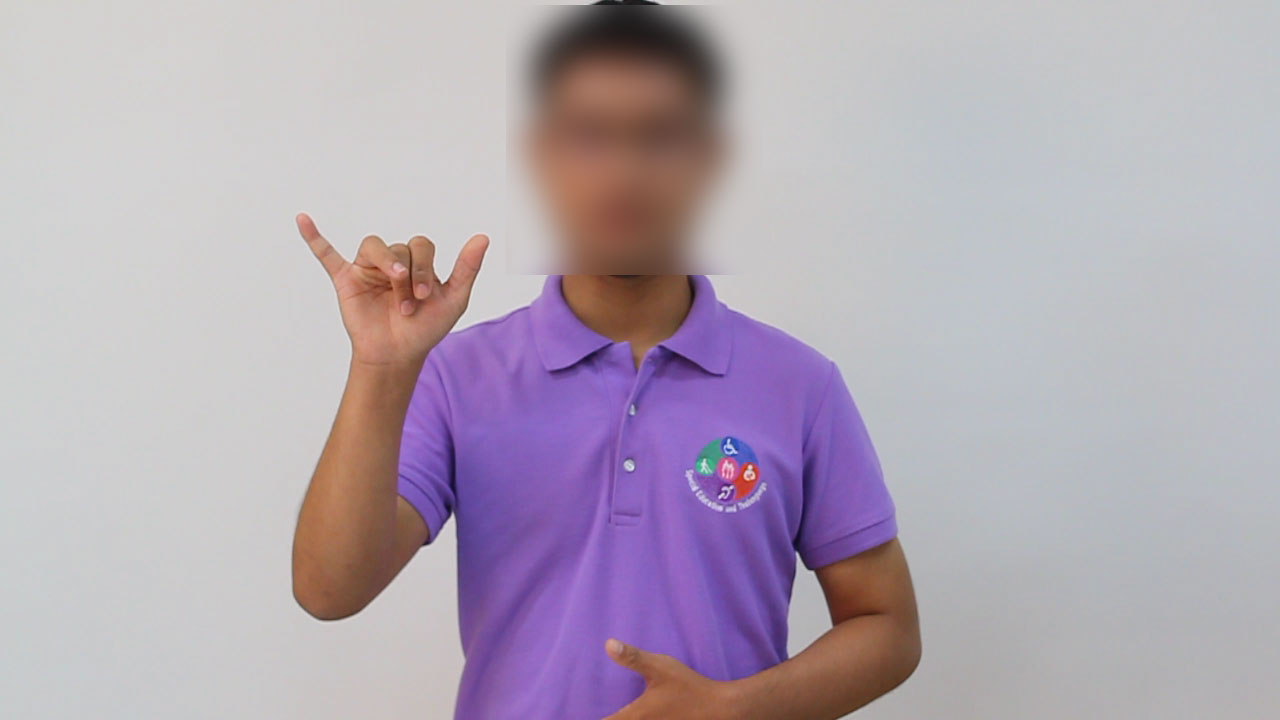yor: (281, 196, 503, 382)
